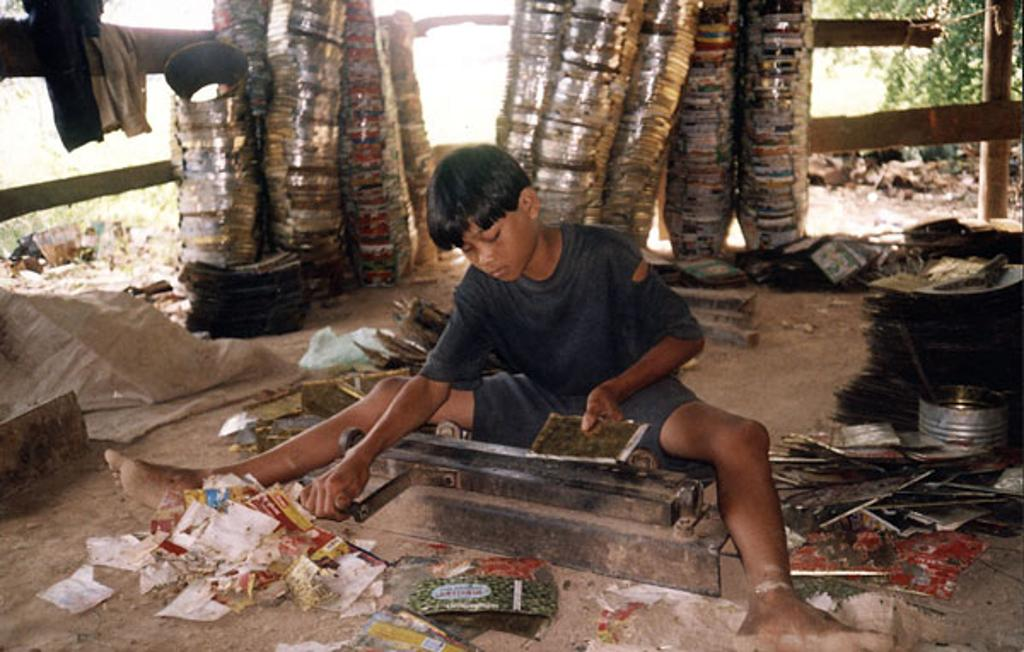face: (453, 178, 530, 283)
